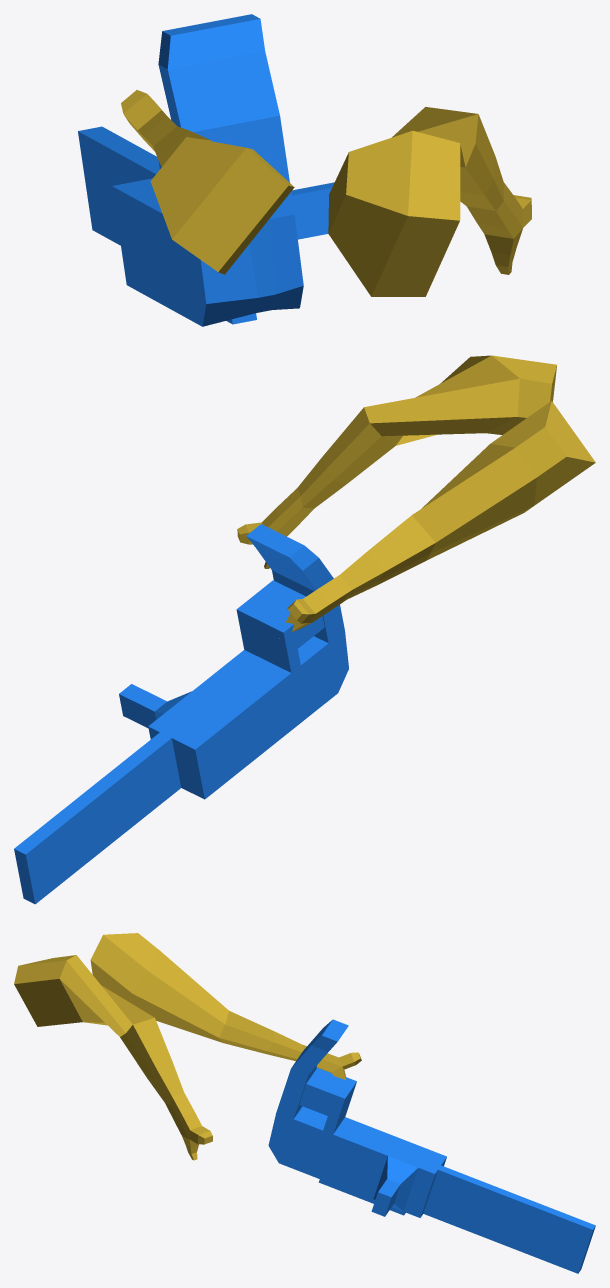
File: arme_000137.obj
3 views of the same model, one above another, from view 1: azimuth 30°, elevation 25°; view 2: azimuth 150°, elevation 25°; view 3: azimuth 270°, elevation 25° (orthographic). The views are drawn at different scales.
Parts seen in each view (by area): view 1: Cube.048_Cube.024, Cube.046_Cube.010; view 2: Cube.046_Cube.010, Cube.048_Cube.024; view 3: Cube.046_Cube.010, Cube.048_Cube.024.
Boxes of the visible parts, left/top/right/bottom form: Cube.048_Cube.024: left=121, top=90, right=531, bottom=296; Cube.046_Cube.010: left=78, top=14, right=334, bottom=326; Cube.046_Cube.010: left=14, top=524, right=348, bottom=904; Cube.048_Cube.024: left=237, top=355, right=595, bottom=638; Cube.046_Cube.010: left=268, top=1019, right=595, bottom=1273; Cube.048_Cube.024: left=14, top=933, right=361, bottom=1160.
Size of the model in its own units: 1147 by 1252 by 2522.
